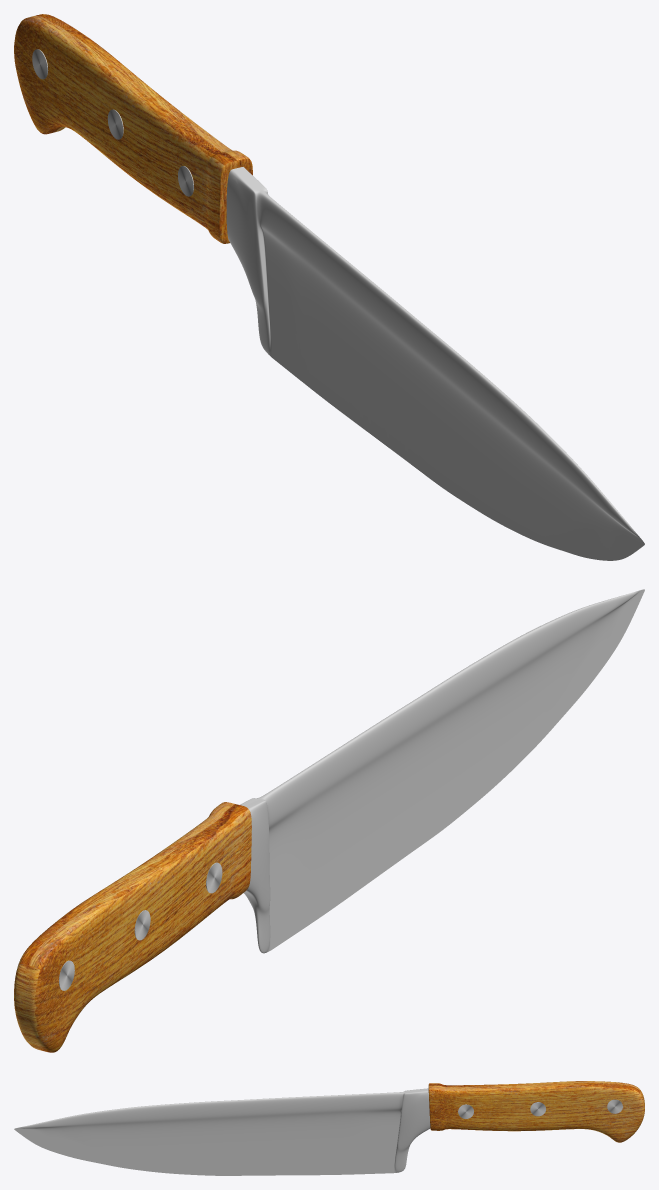
The model's file is chefs_knife_modified.glb.
3 views of the same model, one above another, from view 1: azimuth 30°, elevation 25°; view 2: azimuth 150°, elevation 25°; view 3: azimuth 270°, elevation 25° (orthographic). The views are drawn at different scales.
Parts seen in each view (by area): view 1: Object_2, Object_3, Object_4; view 2: Object_2, Object_3, Object_4; view 3: Object_2, Object_3, Object_4.
Boxes of the visible parts, left/top/right/bottom form: Object_2: left=226, top=167, right=644, bottom=560; Object_3: left=14, top=14, right=252, bottom=243; Object_4: left=32, top=49, right=193, bottom=196; Object_2: left=240, top=589, right=644, bottom=953; Object_3: left=14, top=802, right=251, bottom=1052; Object_4: left=59, top=862, right=222, bottom=990; Object_2: left=14, top=1088, right=430, bottom=1175; Object_3: left=428, top=1081, right=644, bottom=1142; Object_4: left=458, top=1099, right=622, bottom=1118.
Size of the model in its own units: 0.0381 by 0.2016 by 1.24.
Materials: 3 (2 with a texture image).
